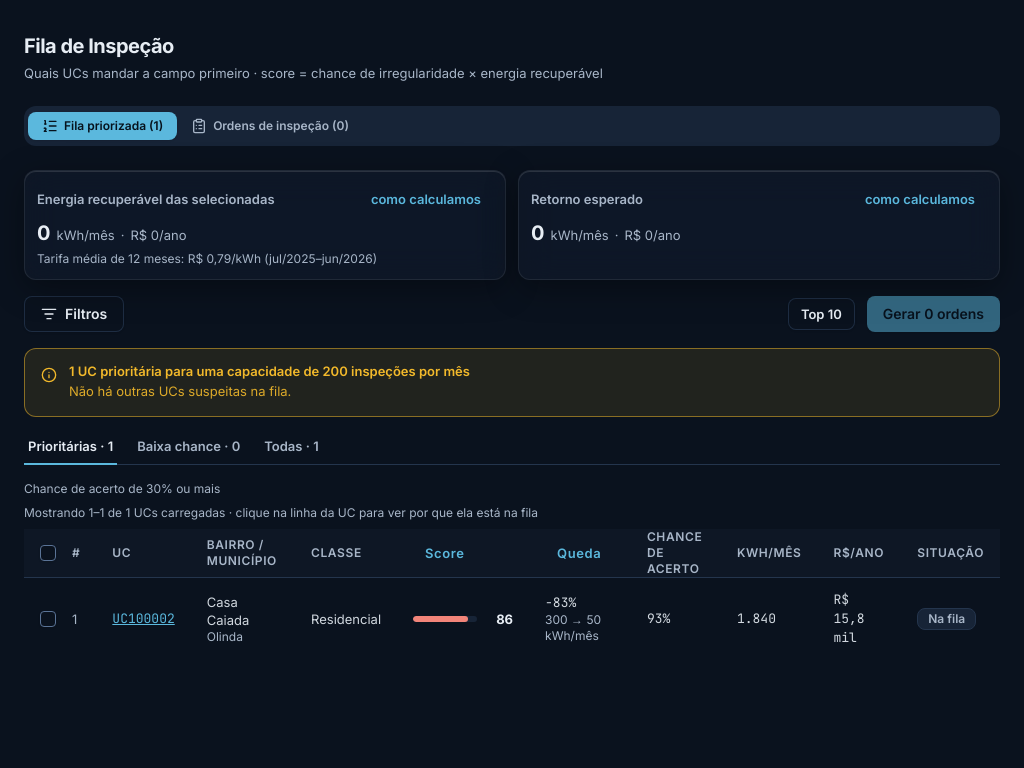
Test: Painel de detalhe da UC › abre ao clicar na linha, com título acessível, motivo e a conta do score com os números
Click the text "Casa Caiada": (228, 610) [207,594,249,628]
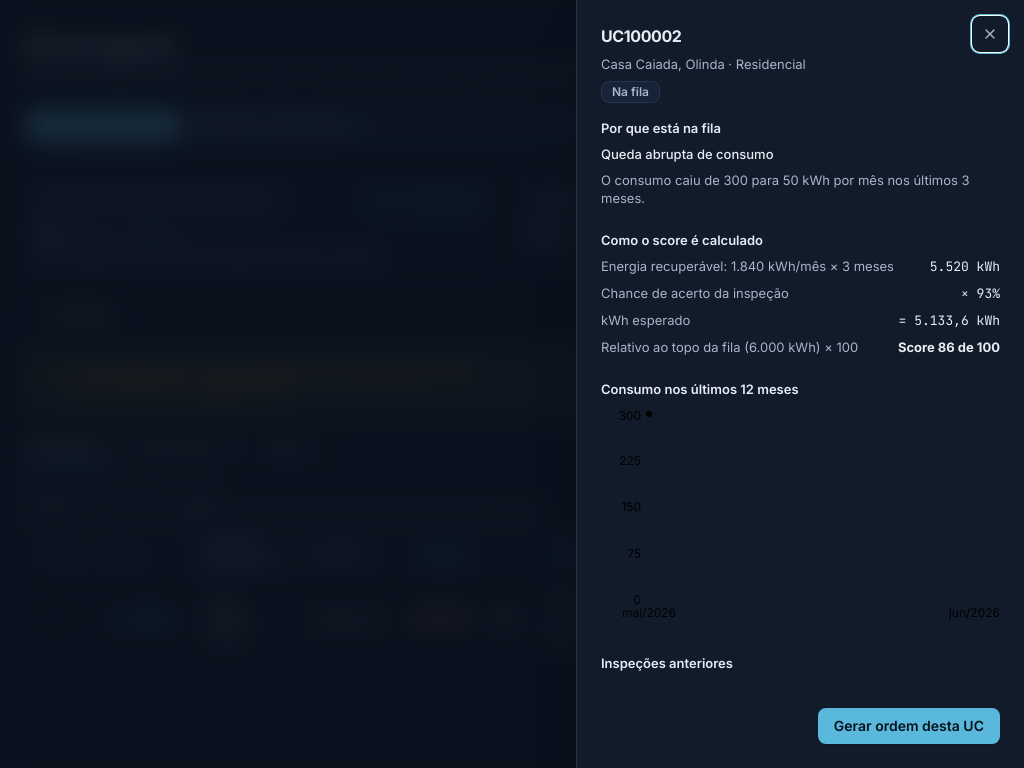
expect the text "Casa Caiada, Olinda · Residencial" is shown: met, box [601,56,806,72]
expect the text "O consumo caiu de 300 para 50" is shown: met, box [601,172,970,206]
expect the text "5.520 kWh" is shown: met, box [930,258,1000,276]
